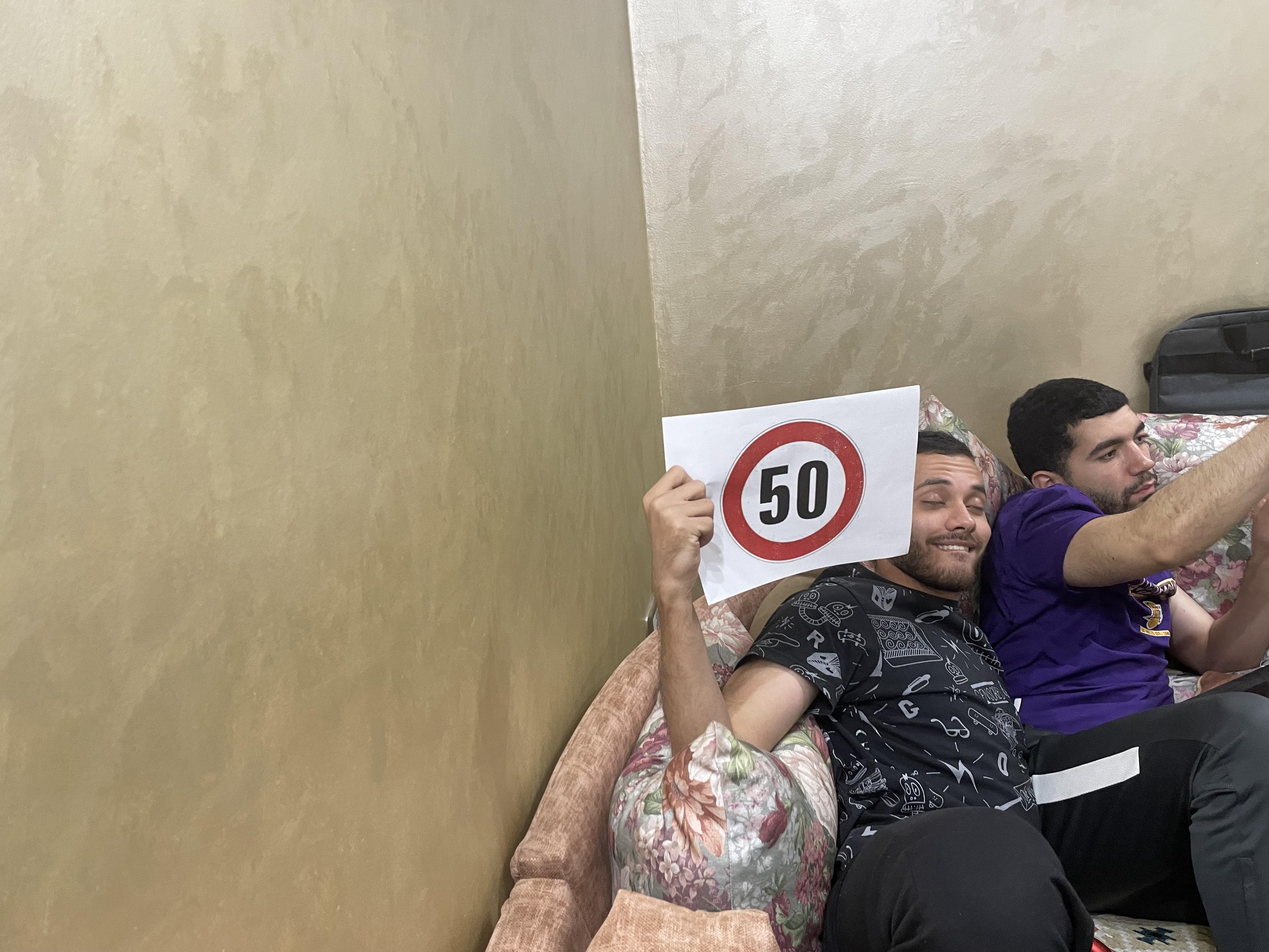50-Speed: (716, 416, 868, 558)
